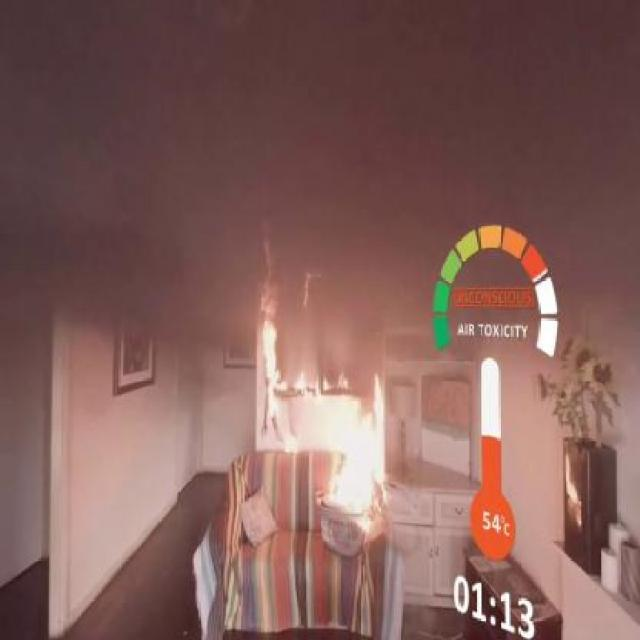fire: (222, 244, 306, 460), (326, 386, 392, 551)
smoke: (76, 12, 561, 348)
